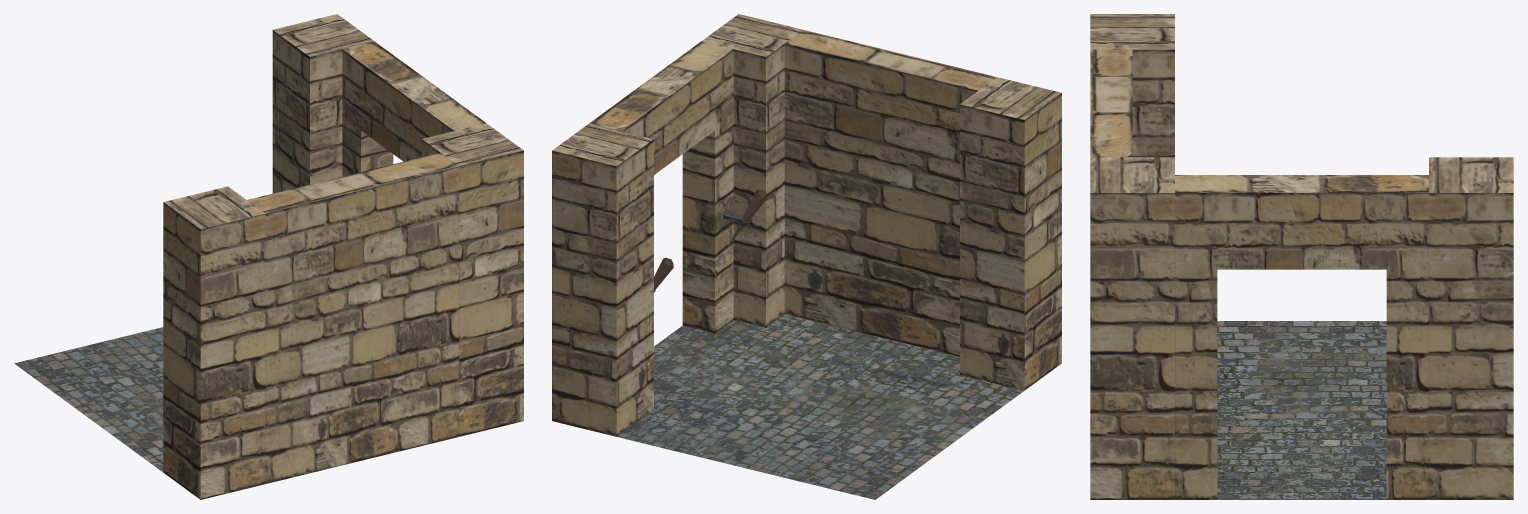
Rendered from 1-NEW-eastDoorSouthWall.fbx.
The picture shows the model from 3 angles, left to right: view 1: azimuth 30°, elevation 25°; view 2: azimuth 150°, elevation 25°; view 3: azimuth 270°, elevation 25°; orthographic projection. The views are drawn at different scales.
Parts seen in each view (by area): view 1: Cube_1, Cube_1_2, Plane, Cube_1_3; view 2: Cube_1, Cube_1_2, Plane, Cube_1_3; view 3: Cube_1_2, Plane, Cube_1.
Part boxes in pixels (<box>): Cube_1: <box>163,166,459,499</box>; Cube_1_2: <box>247,14,523,436</box>; Plane: <box>14,327,163,472</box>; Cube_1_3: <box>361,131,393,171</box>; Cube_1: <box>784,43,1061,390</box>; Cube_1_2: <box>552,14,996,436</box>; Plane: <box>617,314,1023,499</box>; Cube_1_3: <box>682,131,714,333</box>; Cube_1_2: <box>1090,49,1513,499</box>; Plane: <box>1217,321,1386,499</box>; Cube_1: <box>1090,14,1174,157</box>.
Size of the model in its own units: 10 by 8 by 10.
7 materials, 7 textured.
